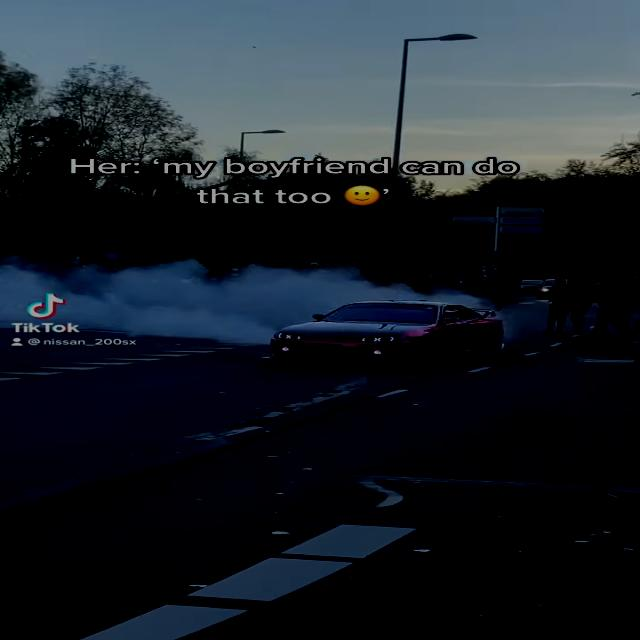car: (271, 299, 512, 368)
